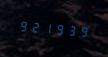nine: (17, 16, 28, 34), (78, 22, 89, 40), (54, 20, 65, 37)
one: (42, 18, 53, 36)
three: (66, 21, 77, 38)
two: (29, 17, 40, 35)
